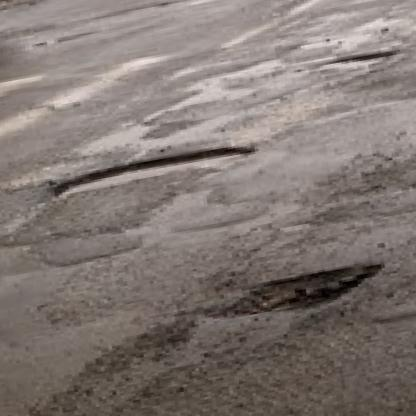pothole: (200, 255, 398, 329), (40, 137, 261, 202), (318, 48, 398, 77)
